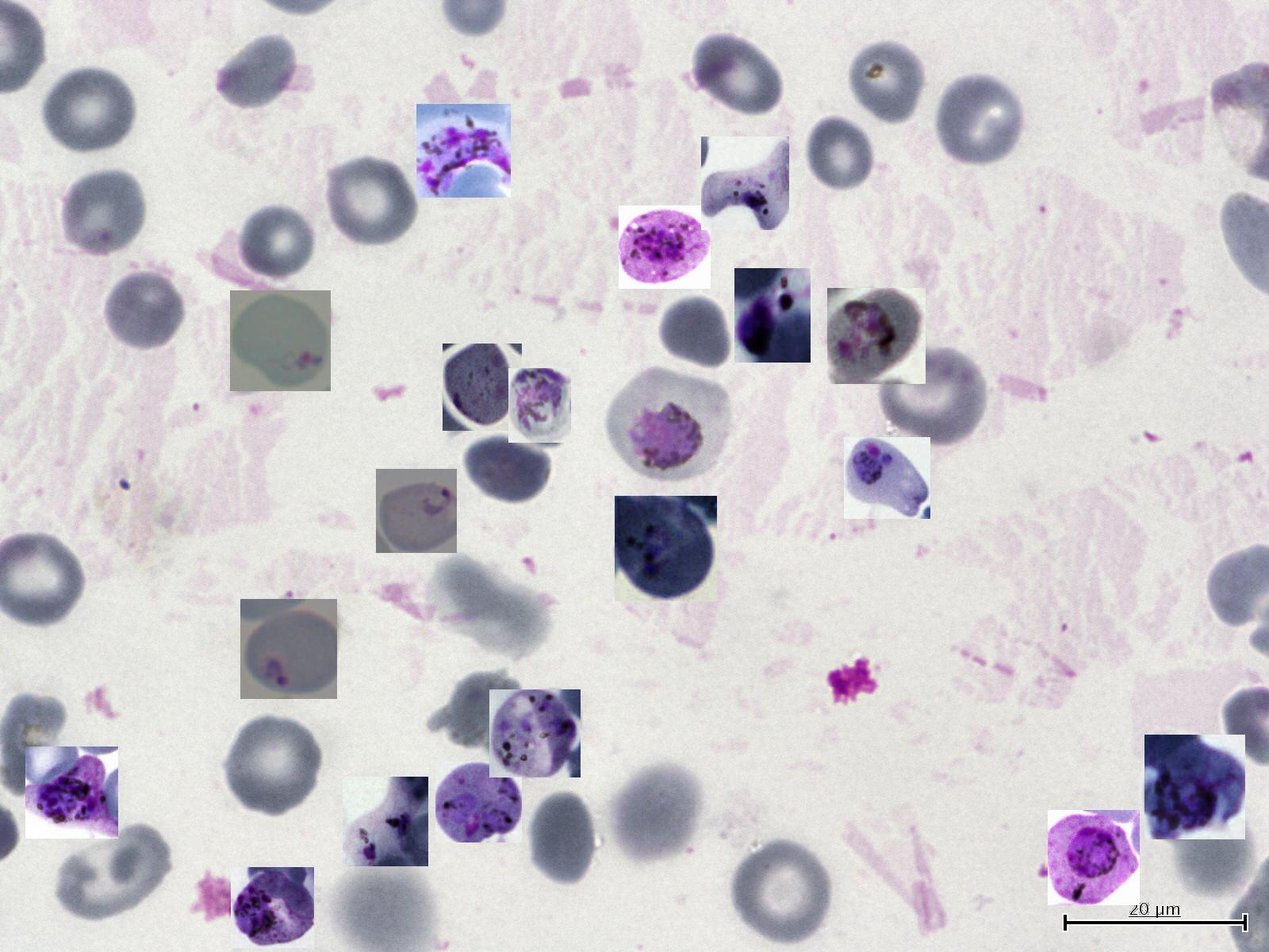Infected: (605, 368, 727, 484), (615, 497, 718, 602), (1144, 735, 1245, 839), (230, 290, 331, 391), (240, 599, 337, 699), (827, 288, 926, 384), (416, 104, 511, 198), (1048, 810, 1140, 905), (25, 747, 118, 839), (701, 137, 789, 230), (489, 689, 581, 777), (619, 205, 711, 289), (343, 777, 428, 866), (734, 268, 811, 363), (844, 437, 930, 519), (435, 762, 522, 843), (443, 344, 522, 431), (376, 469, 457, 553), (231, 867, 314, 948), (508, 368, 571, 443)
Uninfected: (876, 344, 984, 450), (220, 712, 325, 820), (730, 841, 831, 946), (56, 825, 159, 921), (606, 765, 701, 864), (932, 70, 1026, 170), (323, 153, 419, 249), (40, 63, 138, 155), (690, 31, 786, 119), (58, 166, 148, 259), (846, 35, 931, 126), (101, 265, 187, 352), (434, 664, 523, 747), (213, 31, 299, 111), (235, 201, 319, 282), (462, 432, 551, 507), (654, 293, 734, 374), (802, 114, 876, 195), (531, 798, 596, 885)
